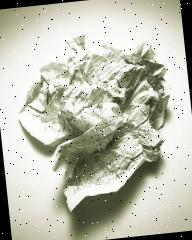paper: (10, 26, 182, 216)
